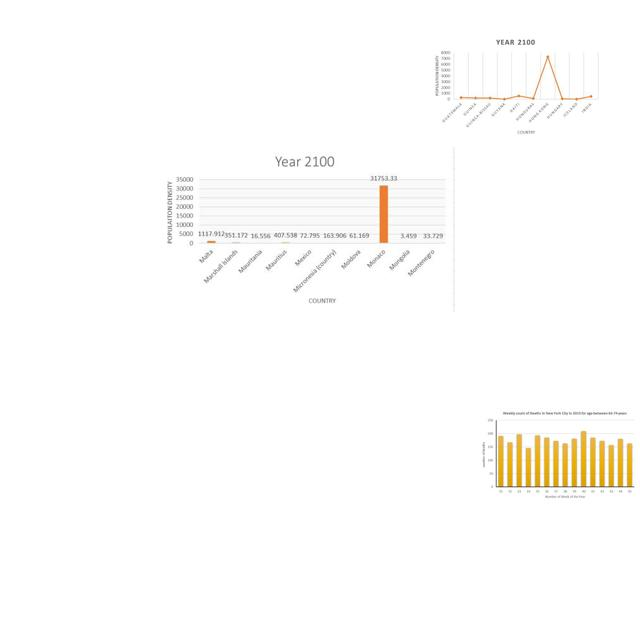Graph: (157, 147, 455, 312), (429, 34, 602, 140), (478, 408, 638, 503)
